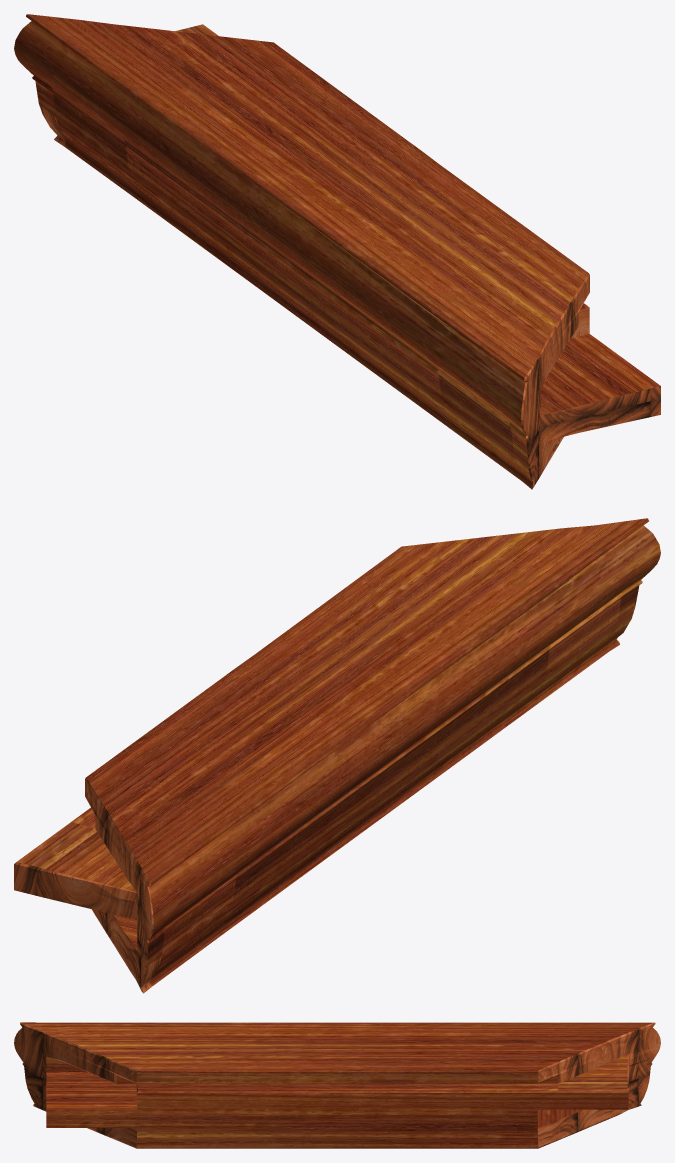
File: changfangwu_J_D_dengmian_04.FBX
3 renders of one model, top to bottom at view 1: azimuth 30°, elevation 25°; view 2: azimuth 150°, elevation 25°; view 3: azimuth 270°, elevation 25°, orthographic. The views are drawn at different scales.
Visible parts, largest first — view 1: changfangwu_J_D_dengmian_04; view 2: changfangwu_J_D_dengmian_04; view 3: changfangwu_J_D_dengmian_04.
Boxes of the visible parts, <box> form: changfangwu_J_D_dengmian_04: <box>14,14,660,489</box>; changfangwu_J_D_dengmian_04: <box>14,518,660,993</box>; changfangwu_J_D_dengmian_04: <box>14,1022,660,1148</box>.
Bounding box in the file's own units: 5.89 × 4.23 × 31.43.
2 materials, 2 textured.
